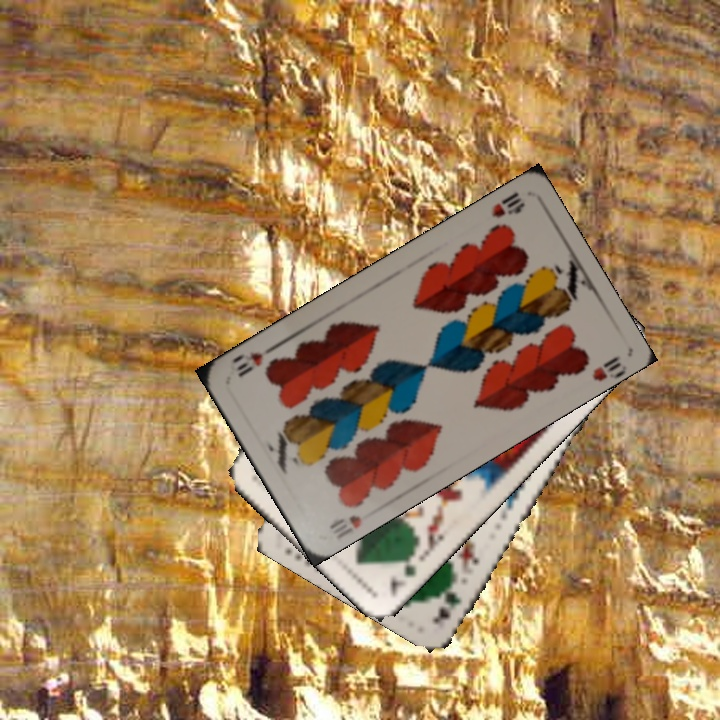GK: (385, 545, 420, 598), (428, 587, 464, 626)
H10: (488, 188, 528, 221), (325, 510, 364, 532)
